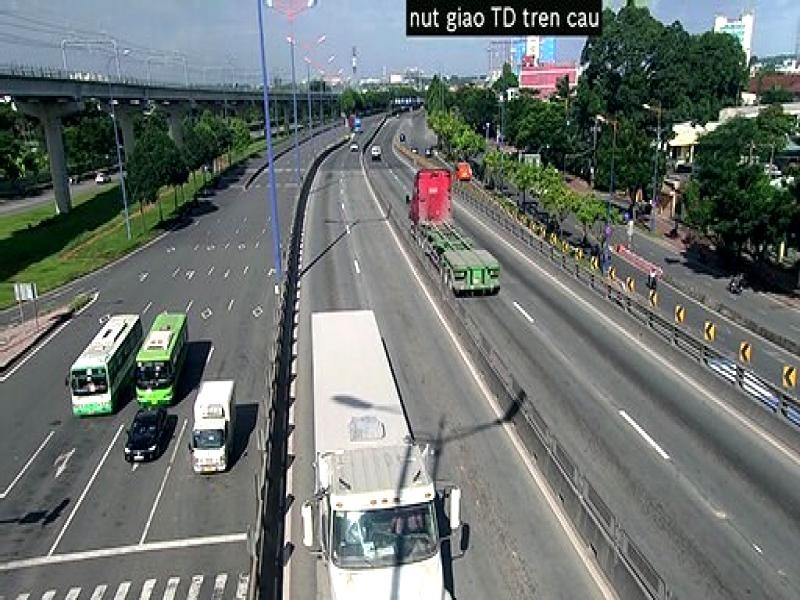bus: (66, 312, 146, 419), (134, 308, 194, 409)
truck: (302, 432, 466, 600)
